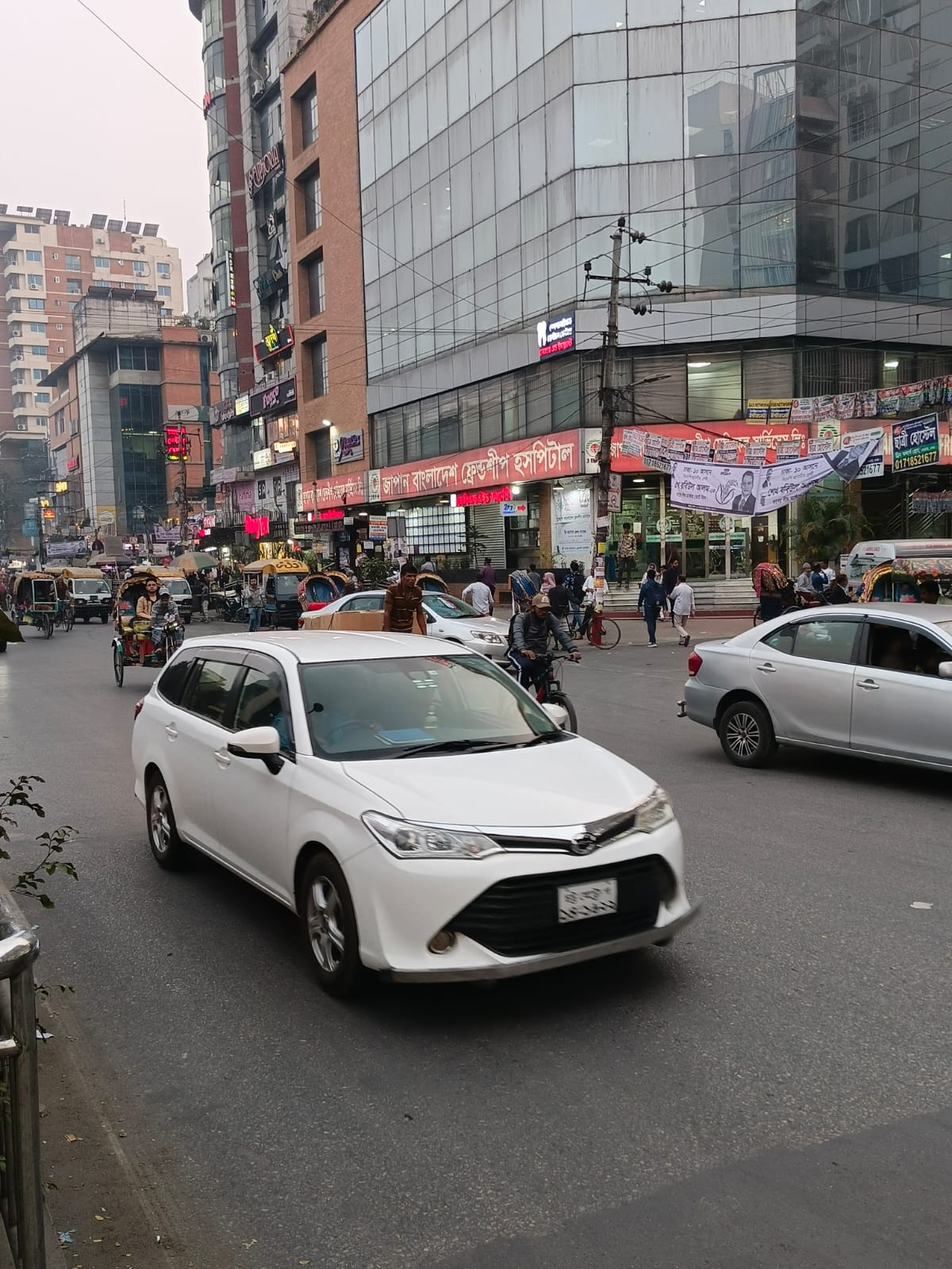private car: (115, 612, 711, 1004), (690, 576, 952, 800)
